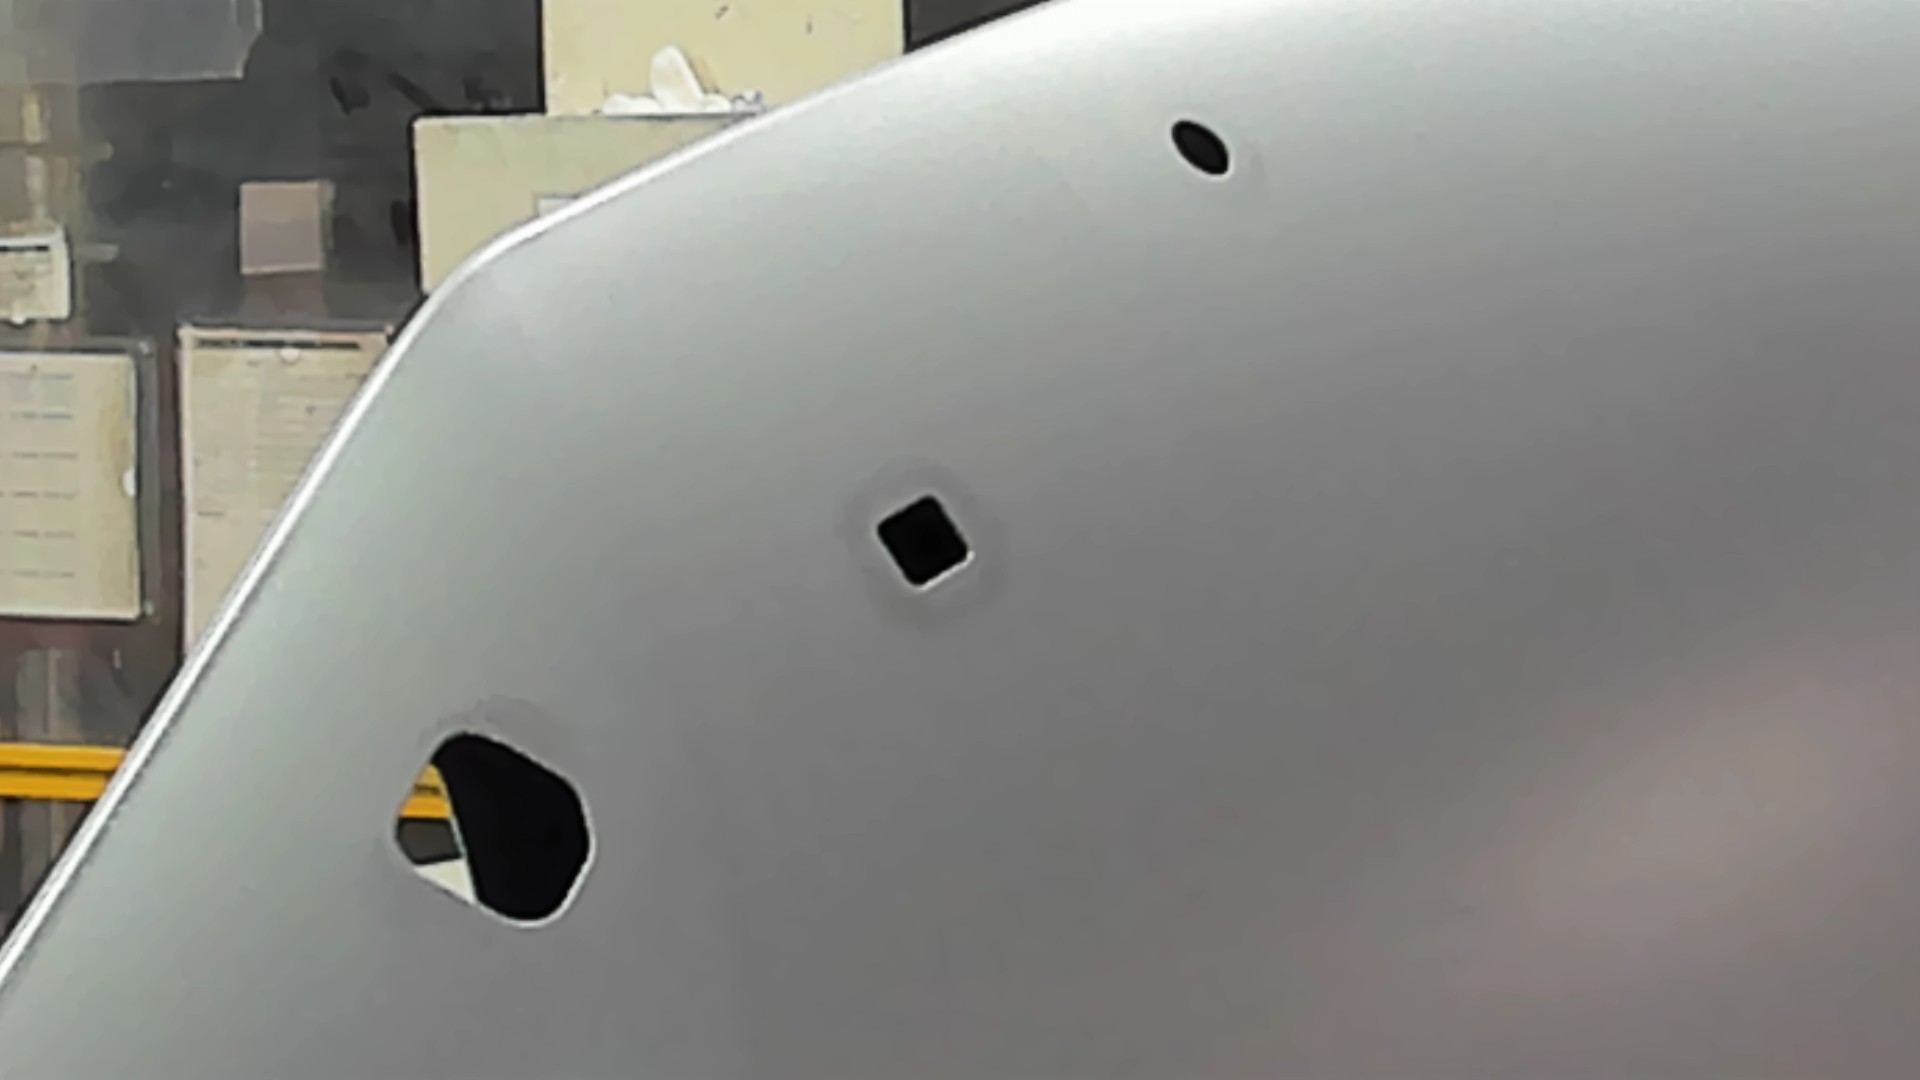chico: (1164, 113, 1237, 181)
grande: (386, 723, 601, 935)
mediano: (866, 483, 981, 597)
